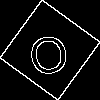O: (25, 25, 71, 76)
